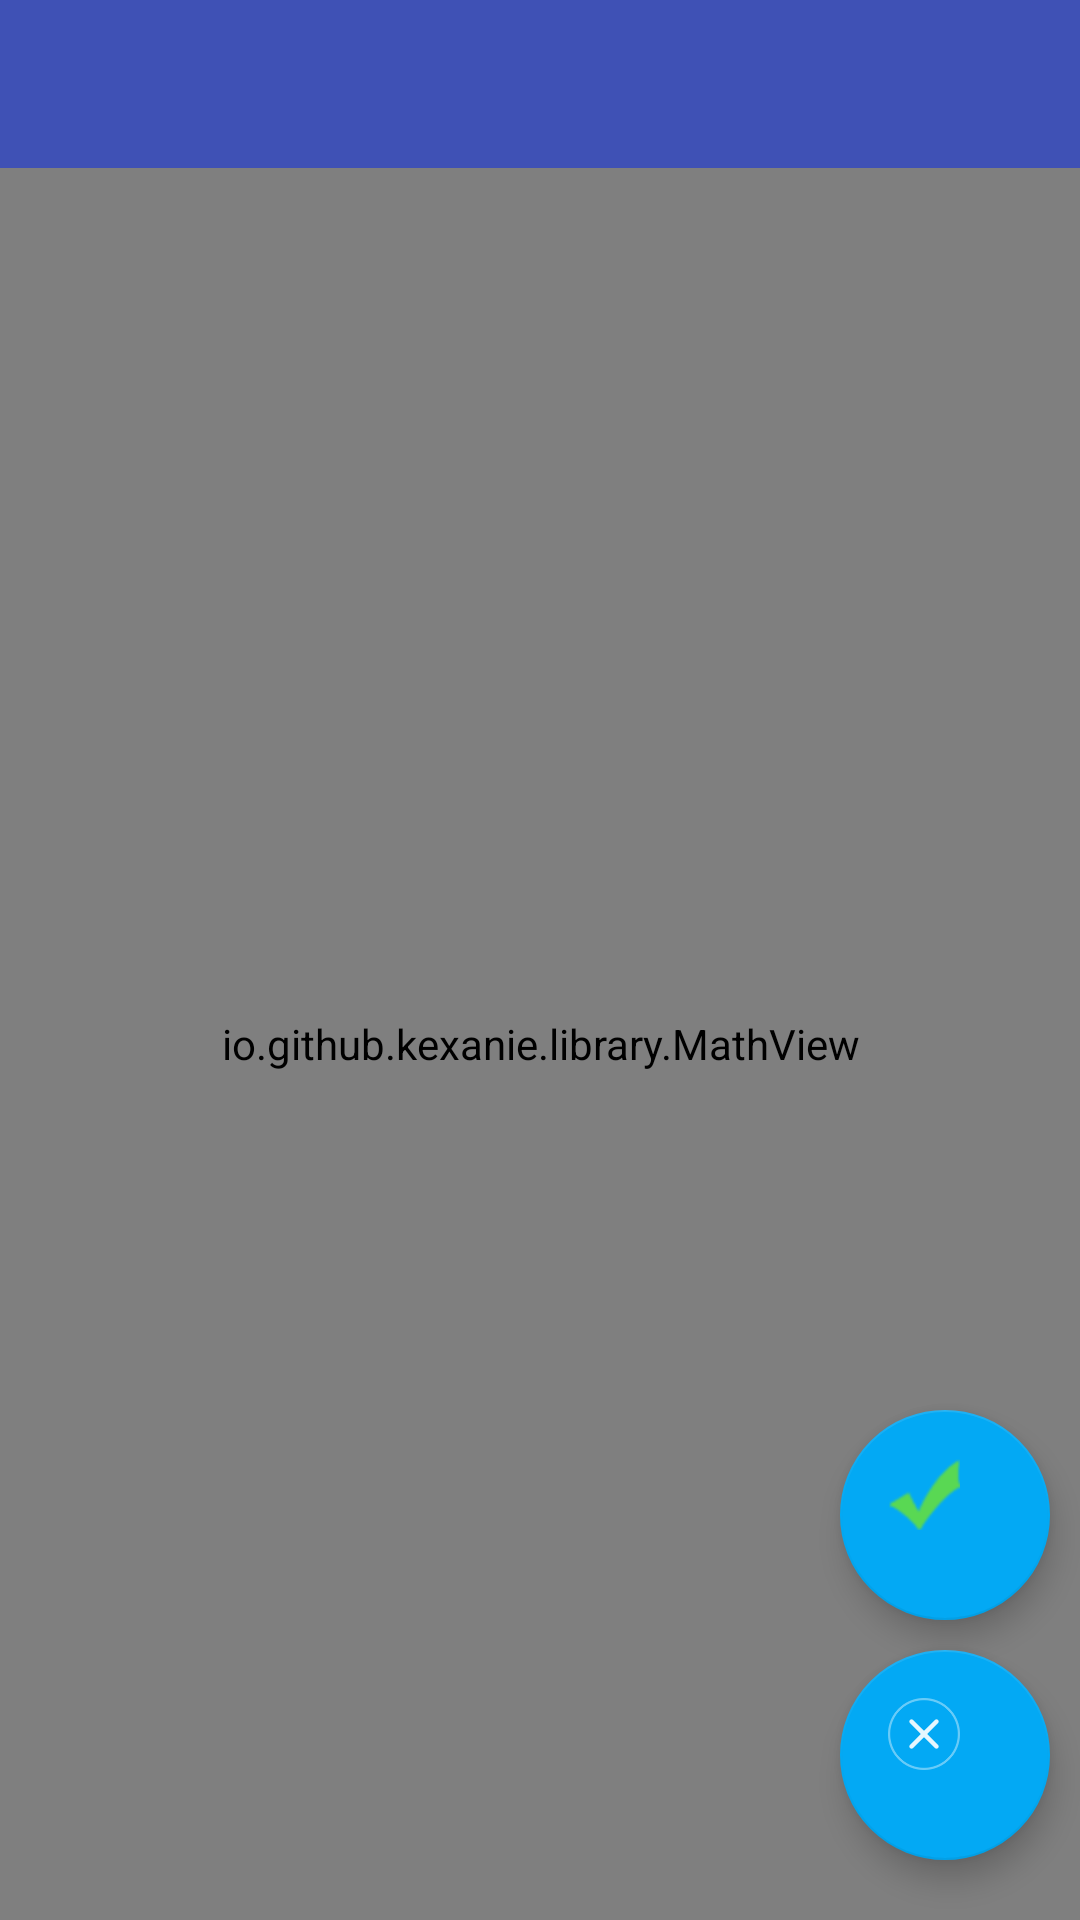

Where icons sit on this 1080w x 1920h app screen, as BBox(x1, y1, x2, y2):
choose: BBox(840, 1410, 1050, 1620)
